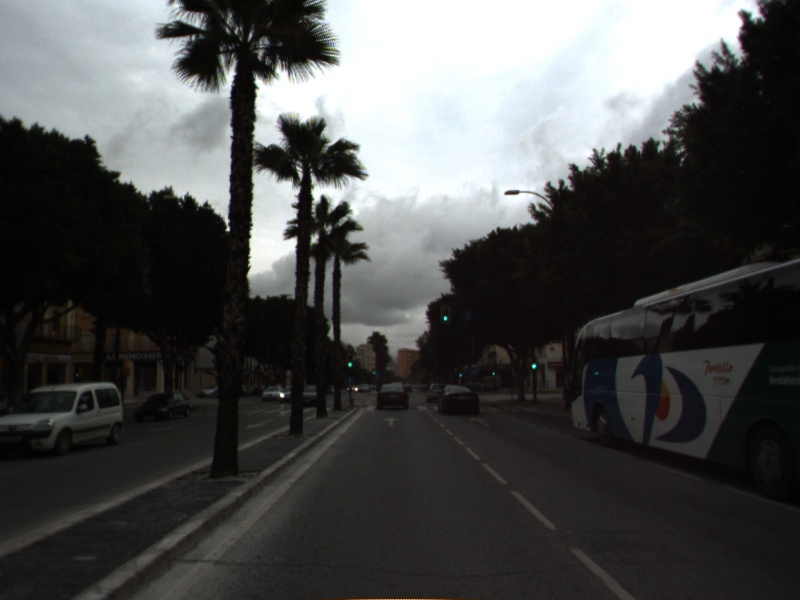STRAIGHT: (466, 414, 492, 429), (380, 415, 402, 428)
